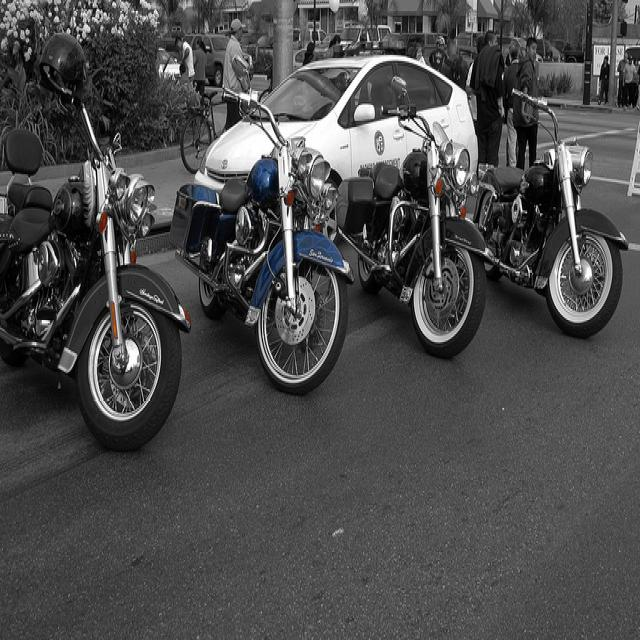motor: (1, 35, 195, 449), (171, 55, 357, 391), (336, 74, 497, 359), (472, 83, 630, 339)
